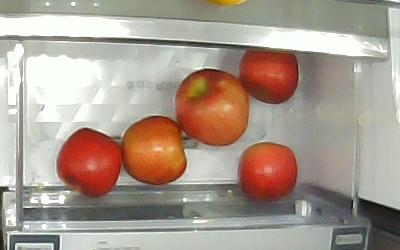apple: (175, 69, 250, 147), (56, 127, 122, 197), (122, 116, 187, 185), (236, 143, 299, 202), (240, 49, 300, 104)
